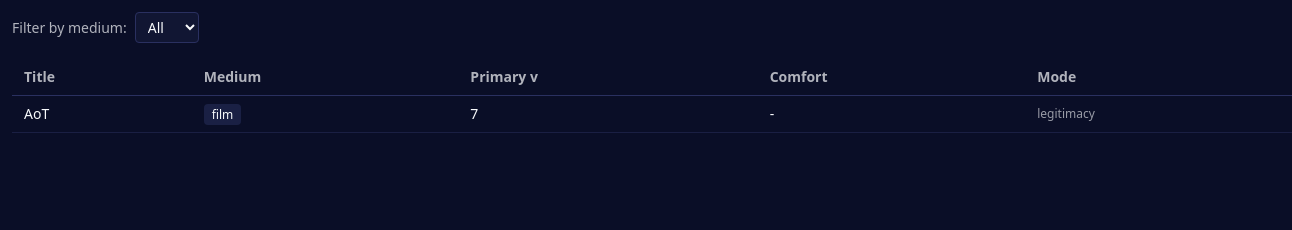
Test: DebugTable › expands row on click to show details
This screenshot has width=1292, height=230.
Click the text "AoT": (37, 114) 12,96 -> 192,132
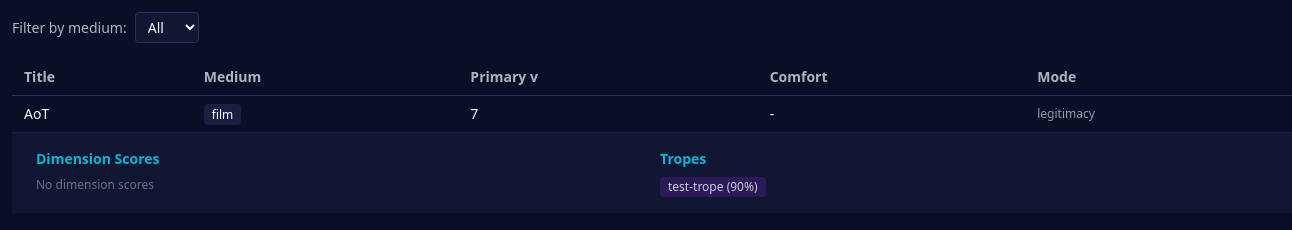
Expected: the text "test-trope (90%)" is shown, 660,177 -> 766,197
